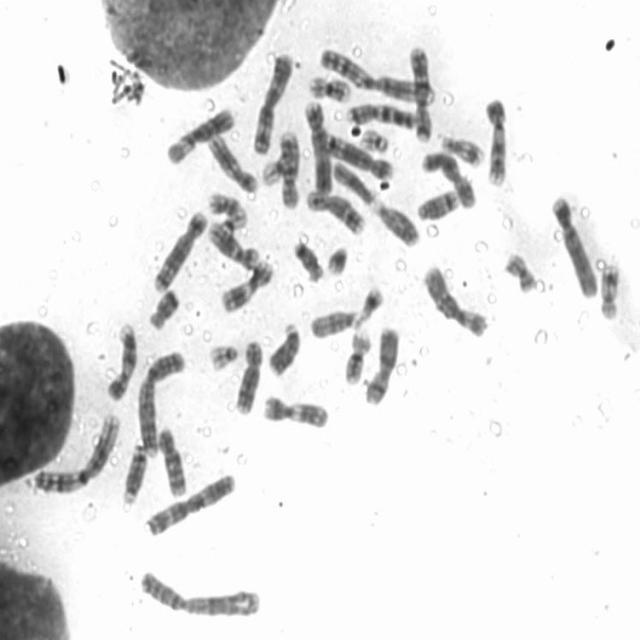A1: (27, 408, 122, 496), (315, 41, 437, 106)
A2: (136, 564, 265, 619), (134, 343, 188, 459)
A3: (142, 466, 239, 538), (248, 46, 296, 156)
B4: (547, 187, 601, 300), (299, 93, 333, 196)
B5: (148, 204, 210, 294), (321, 127, 396, 181)
C10: (154, 421, 190, 499), (276, 125, 303, 210)
C11: (217, 254, 277, 315), (260, 390, 331, 430)
C12: (204, 128, 260, 195), (204, 215, 264, 271)
C6: (419, 259, 490, 338), (162, 101, 237, 166)
C7: (405, 39, 434, 143), (343, 96, 419, 132)
C8: (301, 184, 367, 237), (233, 335, 266, 416)
C9: (103, 318, 141, 403), (482, 91, 511, 188)
D13: (368, 196, 422, 249), (264, 317, 304, 378)
D14: (119, 438, 149, 506), (413, 184, 461, 222)
D15: (328, 156, 378, 206), (307, 303, 361, 339)
E16: (340, 324, 372, 386), (305, 68, 354, 104)
E17: (436, 127, 487, 170), (596, 254, 623, 321)
E18: (144, 283, 182, 331), (289, 235, 325, 283)
F19: (257, 148, 290, 188), (215, 211, 251, 239)
F20: (501, 246, 539, 293), (209, 190, 247, 224)
G21: (354, 280, 386, 324), (322, 240, 350, 276)
G22: (205, 337, 241, 372), (355, 122, 392, 154)
X: (416, 144, 477, 210), (360, 321, 402, 406)
